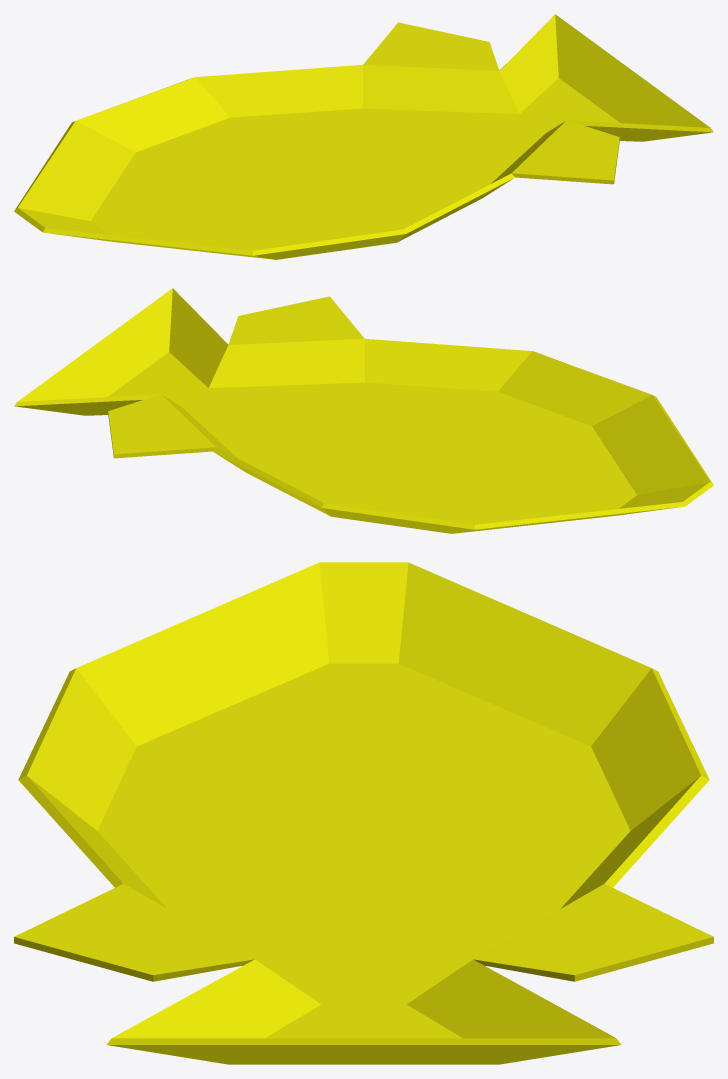
Rendered from Nampan Gold.fbx.
3 views of the same model, one above another, from view 1: azimuth 30°, elevation 25°; view 2: azimuth 150°, elevation 25°; view 3: azimuth 270°, elevation 25° (orthographic). The views are drawn at different scales.
Parts seen in each view (by area): view 1: Plane; view 2: Plane; view 3: Plane.
Boxes of the visible parts, x1=… form: Plane: x1=14, y1=14, x2=713, y2=259; Plane: x1=14, y1=288, x2=713, y2=533; Plane: x1=14, y1=562, x2=713, y2=1064.
Size of the model in its own units: 420 by 21.67 by 259.
